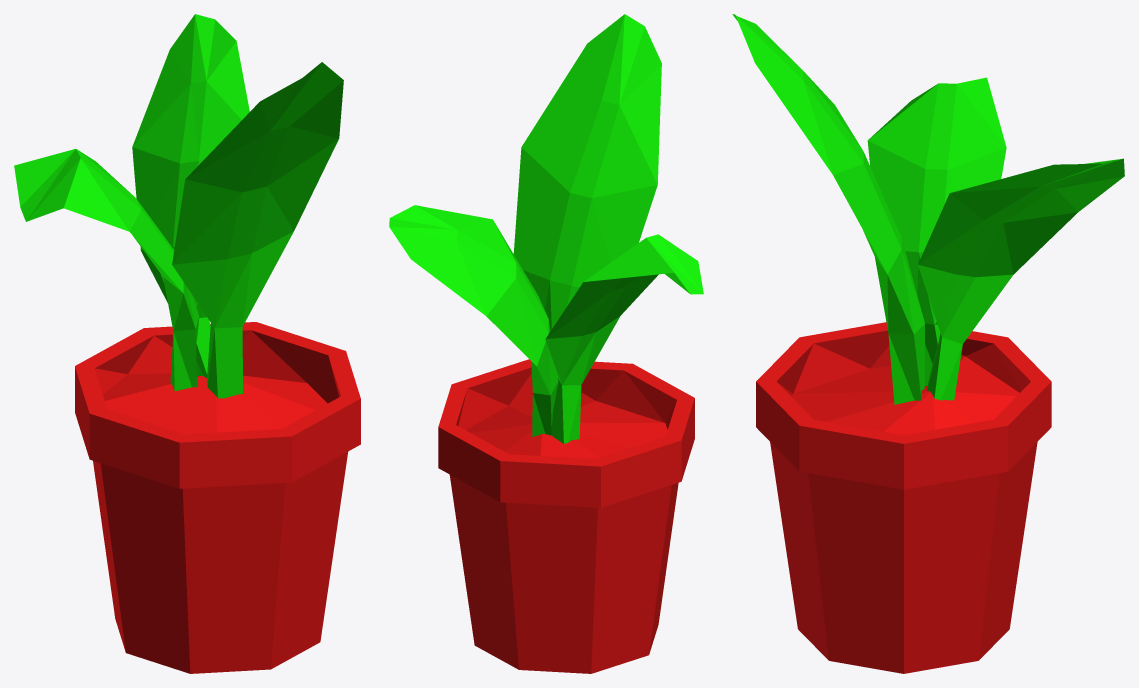
File: flower pot.FBX
The picture shows the model from 3 angles, left to right: view 1: azimuth 30°, elevation 25°; view 2: azimuth 150°, elevation 25°; view 3: azimuth 270°, elevation 25°; orthographic projection. The views are drawn at different scales.
Parts seen in each view (by area): view 1: polySurface9; view 2: polySurface9; view 3: polySurface9.
Boxes of the visible parts, <box> form: polySurface9: <box>14,14,360,673</box>; polySurface9: <box>389,14,703,673</box>; polySurface9: <box>732,14,1124,673</box>.
Size of the model in its own units: 34.15 by 67.92 by 38.73.
